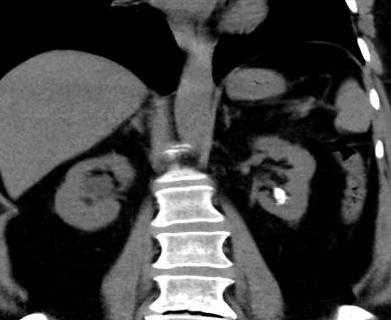Tas_Var: (274, 187, 288, 199), (273, 199, 288, 205)
